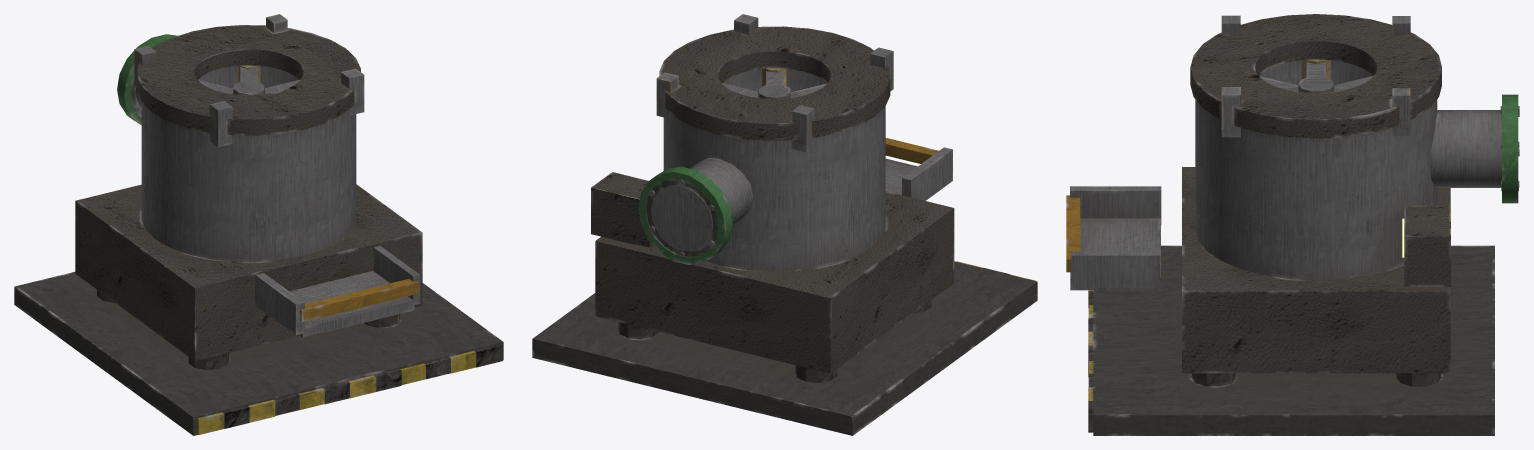
The model's file is feCentrifuge_HD.fbx.
3 renders of one model, left to right at view 1: azimuth 30°, elevation 25°; view 2: azimuth 150°, elevation 25°; view 3: azimuth 270°, elevation 25°, orthographic. The views are drawn at different scales.
Visible parts, largest first — view 1: feCentrifuge_Base, FeWorkSpin_x8_Rotor; view 2: feCentrifuge_Base, FeWorkSpin_x8_Rotor; view 3: feCentrifuge_Base, FeWorkSpin_x8_Rotor.
Part boxes in pixels (bbox=[...]): feCentrifuge_Base: bbox=[14, 14, 503, 435]; FeWorkSpin_x8_Rotor: bbox=[198, 65, 299, 95]; feCentrifuge_Base: bbox=[532, 14, 1037, 435]; FeWorkSpin_x8_Rotor: bbox=[722, 68, 826, 98]; feCentrifuge_Base: bbox=[1066, 14, 1519, 435]; FeWorkSpin_x8_Rotor: bbox=[1259, 59, 1372, 92].
Size of the model in its own units: 0.9012 by 0.7324 by 1.02.
2 materials, 1 textured.
